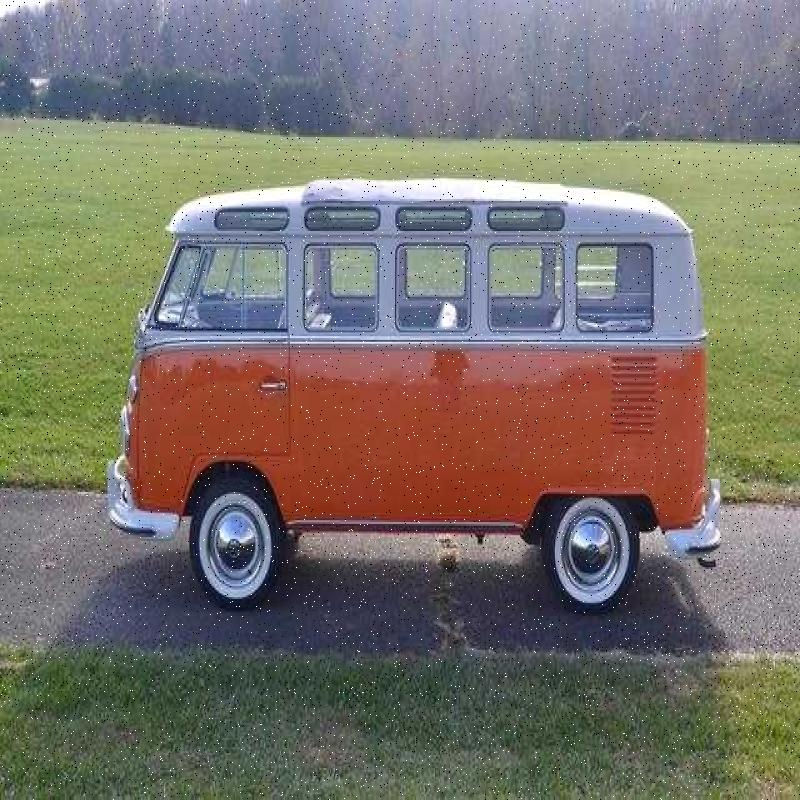bus: (97, 149, 758, 620)
